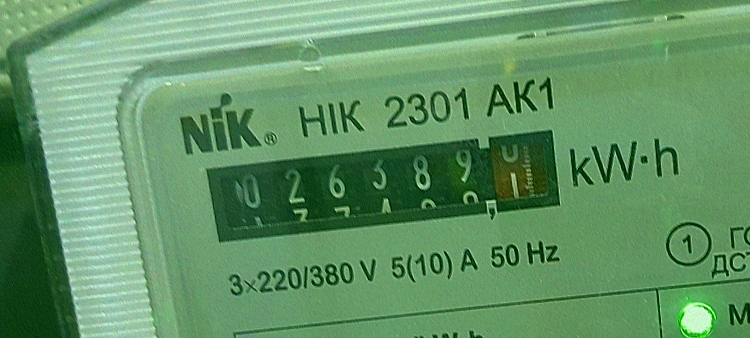0: (237, 169, 263, 210), (499, 141, 519, 163)
1: (506, 168, 521, 200)
2: (281, 164, 307, 205)
3: (367, 156, 388, 192)
6: (324, 159, 346, 200)
8: (409, 151, 433, 191)
9: (453, 147, 473, 182)
screen: (190, 116, 576, 255)
